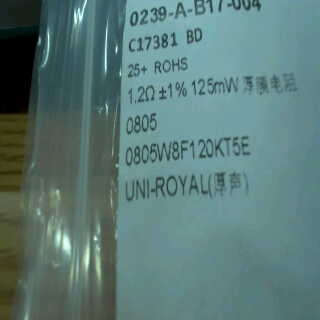1.2R: (123, 87, 160, 136)
